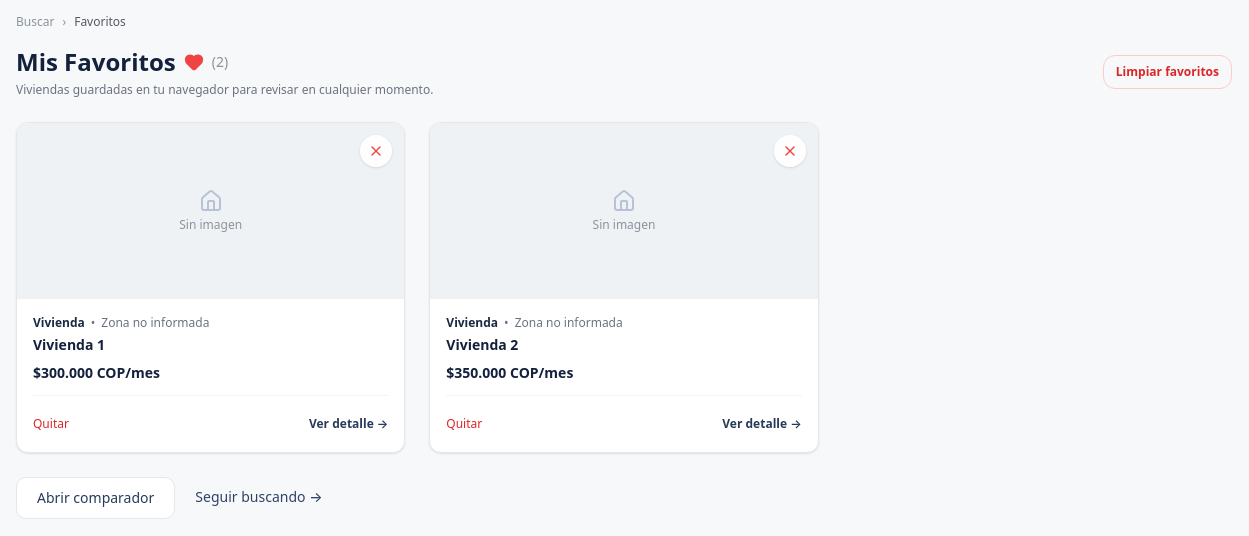
Página de Favoritos (HU Estudiante) › cuando el usuario selecciona "Quitar", se elimina únicamente ese favorito
Check: the heading "Vivienda 1" is shown, box [33,335,105,354]
Check: the heading "Vivienda 2" is shown, box [446,335,518,354]
Quitar Vivienda 1
Click the button "Quitar" below "$300.000 COP/mes" at (51, 424), box [33,412,69,436]
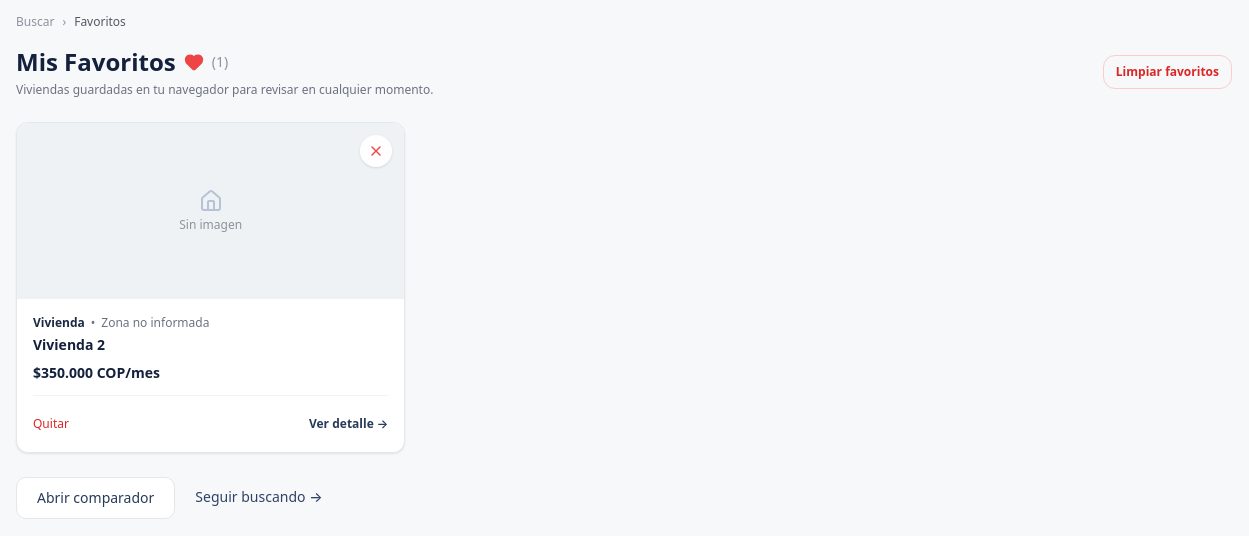
Check: the heading "Vivienda 2" is shown, box [33,335,105,354]
Check: the heading "Vivienda 1" is gone
